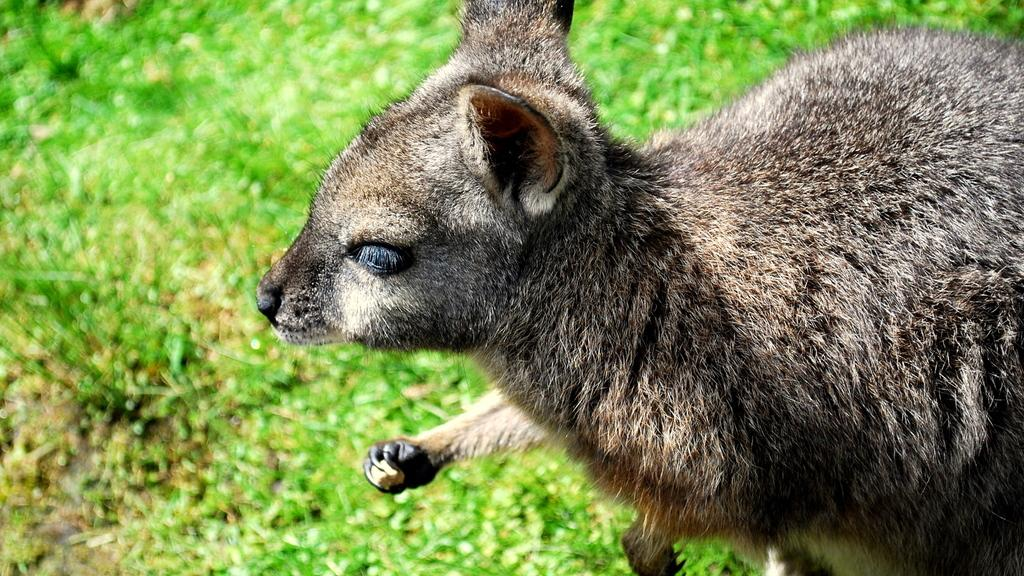kangaroo: (254, 0, 1024, 575)
